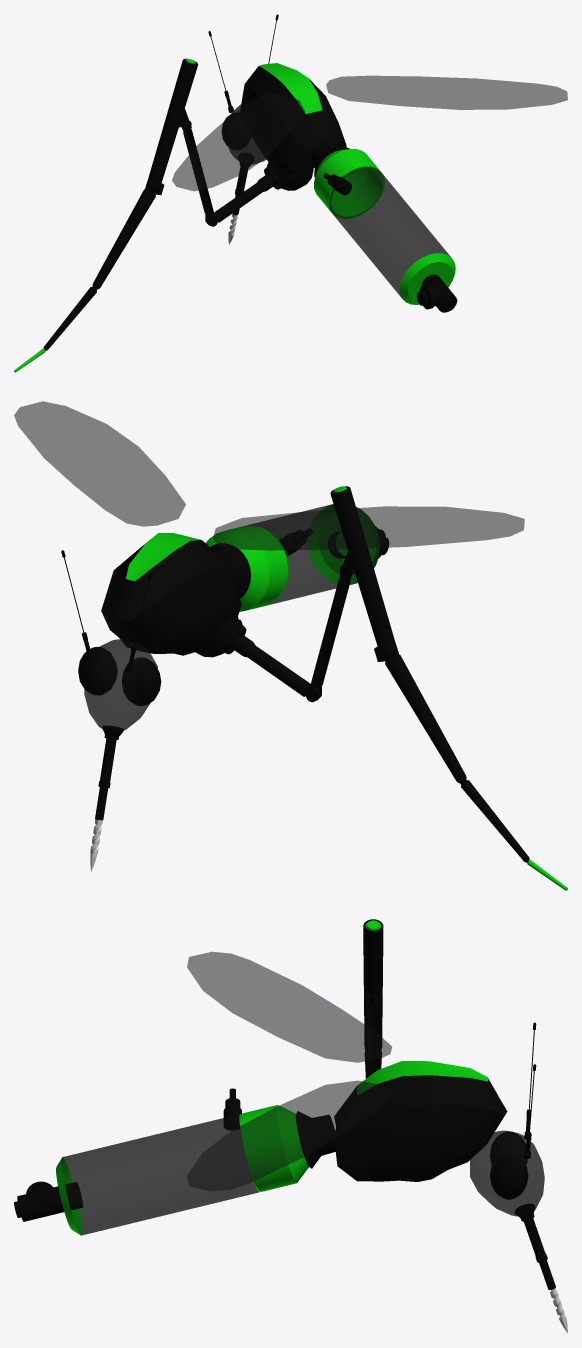
File: Skito1_Collection_001.obj
The picture shows the model from 3 angles, top to bottom: view 1: azimuth 30°, elevation 25°; view 2: azimuth 150°, elevation 25°; view 3: azimuth 270°, elevation 25°; orthographic projection. The views are drawn at different scales.
Parts seen in each view (by area): view 1: Plane.002, Cylinder.011, Plane.001, Cylinder.016, Cylinder.022, Cylinder.014, Tee_Joint.002, Tee_Joint.003, Sphere.002, Sphere.003, Sphere.004, Cylinder.020 (+1 smaller); view 2: Plane.002, Plane.001, Cylinder.011, Sphere.002, Cylinder.016, Sphere.003, Cylinder.022, Cylinder.014, Tee_Joint.002, Cylinder.028, Cylinder.020, Cylinder.026; view 3: Cylinder.011, Plane.002, Plane.001, Sphere.002, Sphere.003, Cylinder.016, Tee_Joint.003, Cylinder.028, Tee_Joint.002, Cylinder.017, Cylinder.026.
Part boxes in pixels (<box>): Plane.002: <box>172,75,567,191</box>; Cylinder.011: <box>310,140,455,304</box>; Plane.001: <box>239,63,346,175</box>; Cylinder.016: <box>147,58,198,191</box>; Cylinder.022: <box>92,189,155,289</box>; Cylinder.014: <box>206,162,286,225</box>; Tee_Joint.002: <box>179,108,217,226</box>; Tee_Joint.003: <box>416,274,457,312</box>; Sphere.002: <box>228,104,266,164</box>; Sphere.003: <box>221,112,250,149</box>; Sphere.004: <box>268,158,313,190</box>; Cylinder.020: <box>43,285,97,350</box>; Plane.002: <box>14,401,524,550</box>; Plane.001: <box>101,533,241,655</box>; Cylinder.011: <box>206,504,379,611</box>; Sphere.002: <box>84,639,157,731</box>; Cylinder.016: <box>330,486,395,657</box>; Sphere.003: <box>78,647,161,705</box>; Cylinder.022: <box>385,654,466,783</box>; Cylinder.014: <box>220,619,320,700</box>; Tee_Joint.002: <box>306,551,354,702</box>; Cylinder.028: <box>95,725,123,820</box>; Cylinder.020: <box>460,778,529,862</box>; Cylinder.026: <box>61,550,151,671</box>; Cylinder.011: <box>56,1105,335,1235</box>; Plane.002: <box>187,951,392,1191</box>; Plane.001: <box>334,1061,507,1181</box>; Sphere.002: <box>470,1130,544,1216</box>; Sphere.003: <box>490,1131,528,1199</box>; Cylinder.016: <box>363,919,383,1053</box>; Tee_Joint.003: <box>14,1181,83,1221</box>; Cylinder.028: <box>514,1203,555,1289</box>; Tee_Joint.002: <box>365,991,379,1077</box>; Cylinder.017: <box>223,1088,241,1130</box>; Cylinder.026: <box>524,1022,536,1158</box>.
Size of the model in its own units: 5.14 by 2.72 by 4.01.
